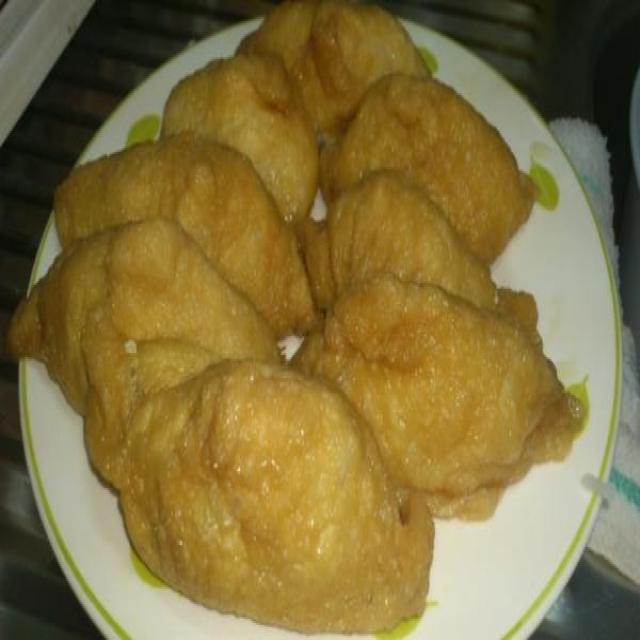寿司卷物: (37, 17, 588, 625)
